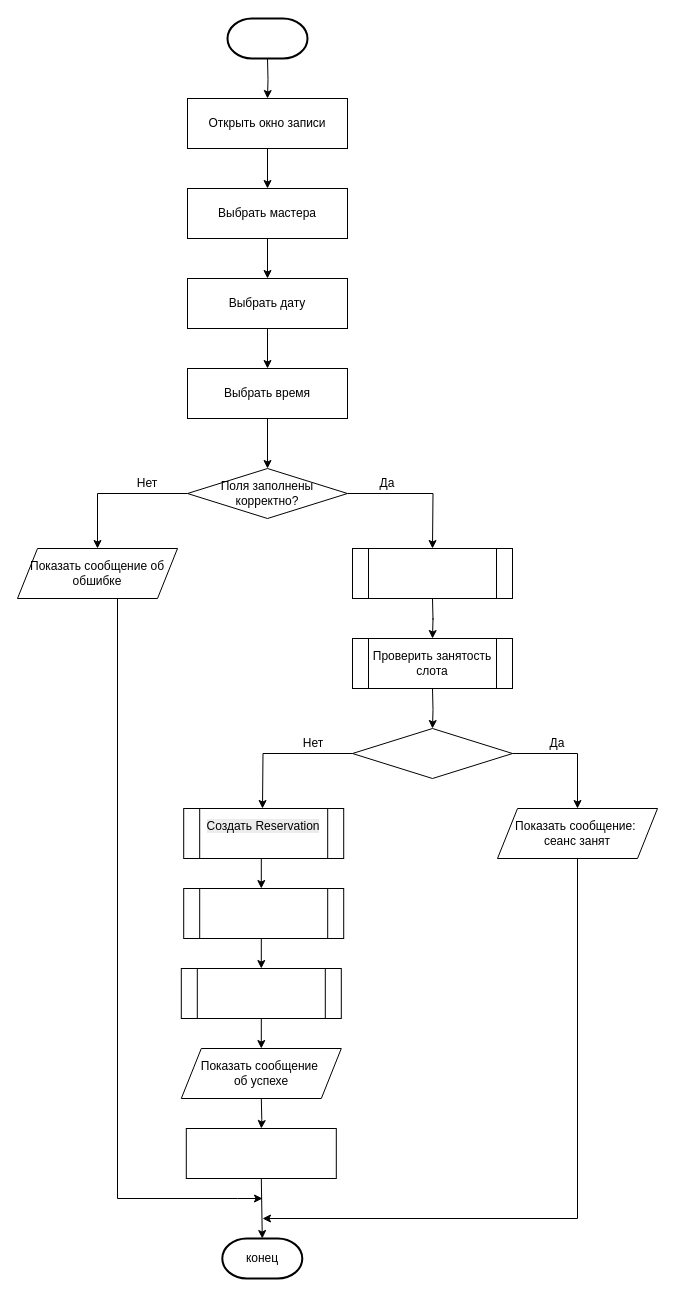
The diagram is 675 pixels wide and 1296 high, and some of its shapes have lost their labels. The shapes that lost their labels are listed below. From the top down, each one's centre as x and y in pixels, then its label:
At pixel 267 38: "начало".
At pixel 432 573: "Преобразовать время в UserTime".
At pixel 432 753: "Слот занят?".
At pixel 263 913: "Установить статус Pending".
At pixel 260 993: "Сохранить запись в БД".
At pixel 260 1153: "Закрыть окно".
